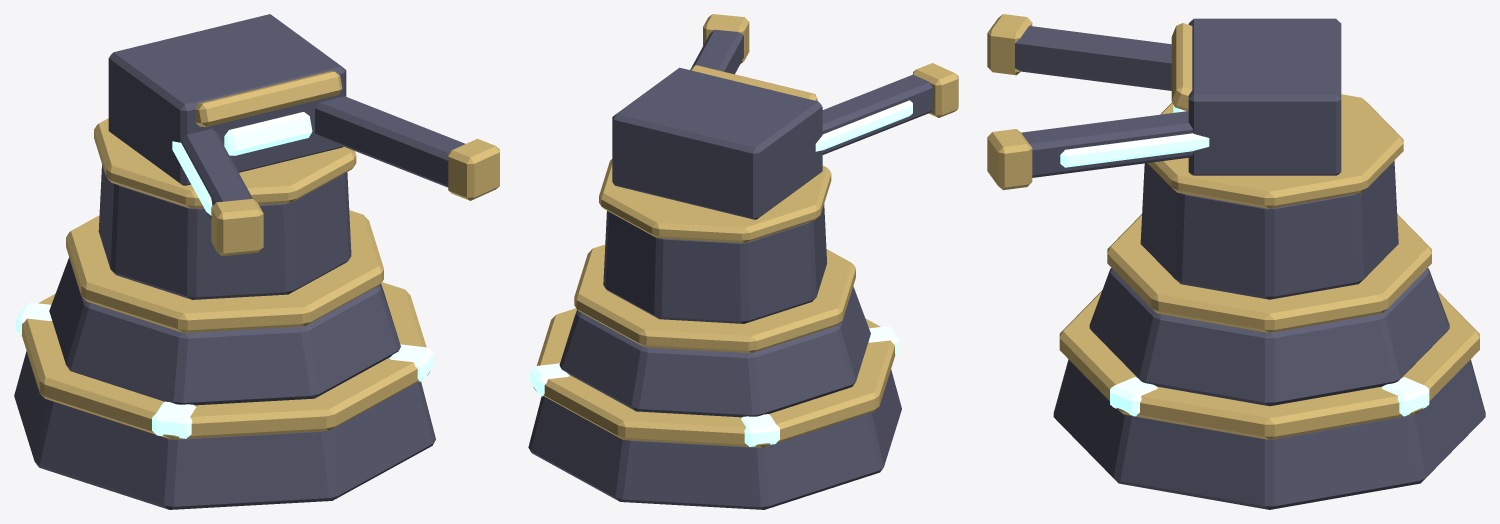
The model's file is LTW_WardArrow_Tower.fbx.
3 views of the same model, side by side, from view 1: azimuth 30°, elevation 25°; view 2: azimuth 150°, elevation 25°; view 3: azimuth 270°, elevation 25° (orthographic). The views are drawn at different scales.
Parts seen in each view (by area): view 1: LTW_WardArrow_Tower; view 2: LTW_WardArrow_Tower; view 3: LTW_WardArrow_Tower.
Boxes of the visible parts, <box> form: LTW_WardArrow_Tower: <box>14,14,499,509</box>; LTW_WardArrow_Tower: <box>528,14,958,509</box>; LTW_WardArrow_Tower: <box>987,14,1485,509</box>.
Size of the model in its own units: 90.62 by 84.41 by 105.
